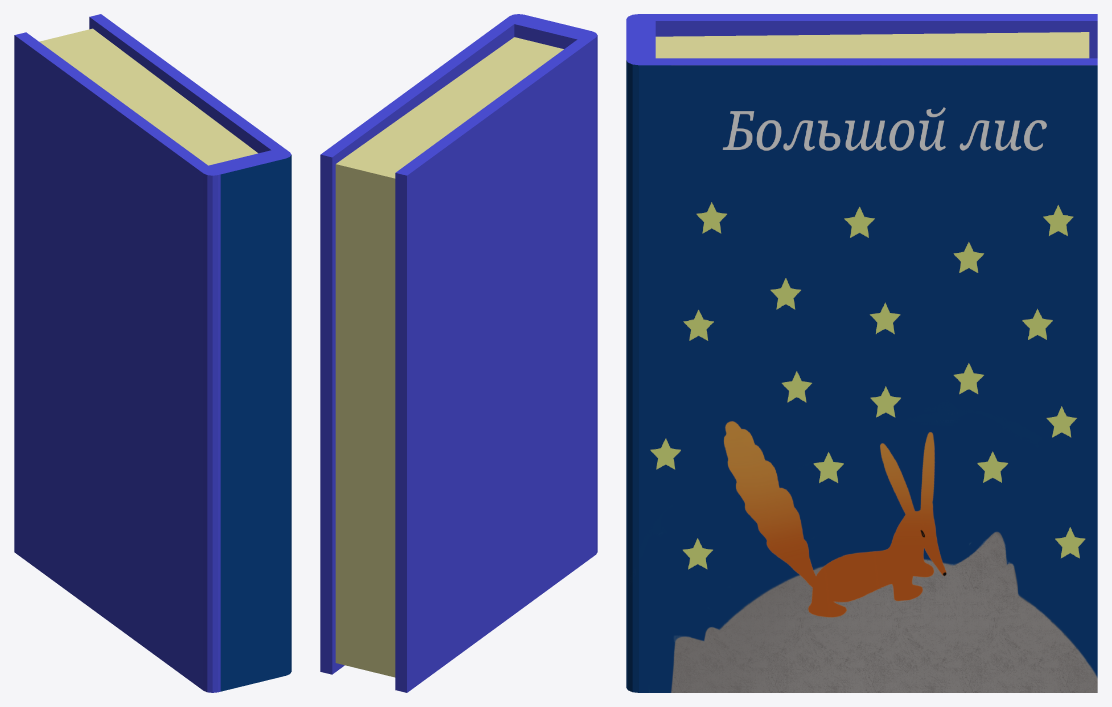
Rendered from Книга.fbx.
3 renders of one model, left to right at view 1: azimuth 30°, elevation 25°; view 2: azimuth 150°, elevation 25°; view 3: azimuth 270°, elevation 25°, orthographic. The views are drawn at different scales.
Parts seen in each view (by area): view 1: Cube; view 2: Cube; view 3: Cube.
Part boxes in pixels (x1,y1,x2,y2): Cube: [14, 14, 291, 692]; Cube: [320, 14, 597, 692]; Cube: [626, 14, 1097, 692].
Bounding box in the file's own units: 84.51 × 482 × 328.
